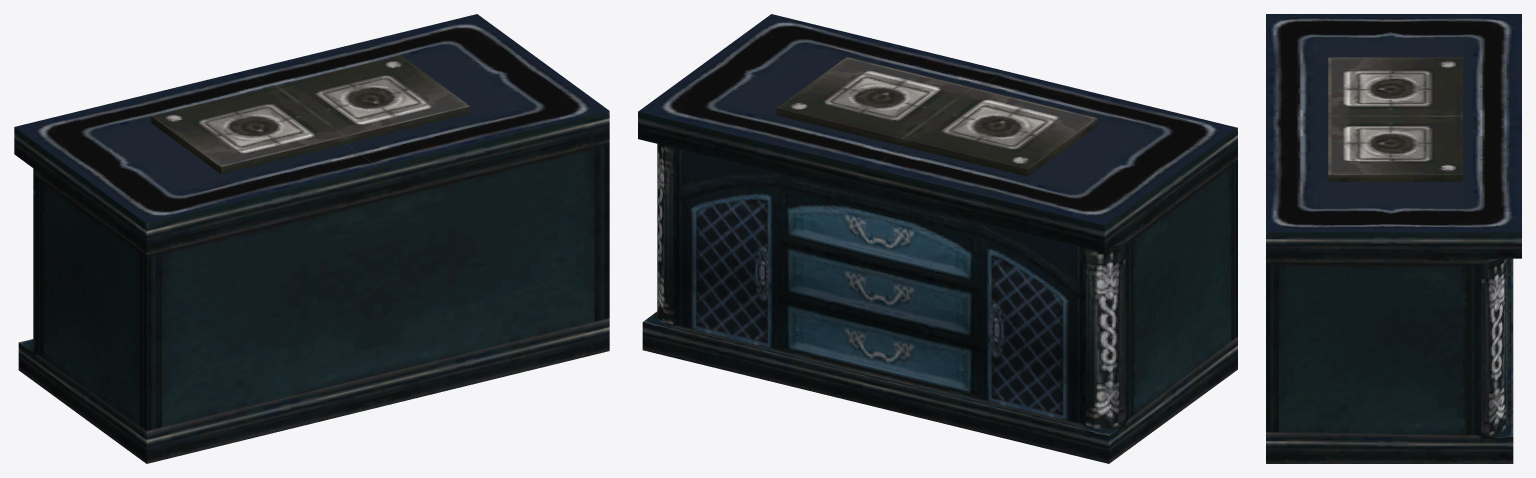
File: furni_0201224_01.FBX
3 renders of one model, left to right at view 1: azimuth 30°, elevation 25°; view 2: azimuth 150°, elevation 25°; view 3: azimuth 270°, elevation 25°, orthographic. The views are drawn at different scales.
Visible parts, largest first — view 1: furni_0201224_01; view 2: furni_0201224_01; view 3: furni_0201224_01.
Part boxes in pixels (x1,y1,x2,y2): furni_0201224_01: (14,14,609,463); furni_0201224_01: (638,14,1237,463); furni_0201224_01: (1266,14,1521,463).
Size of the model in its own units: 161 by 82.34 by 80.
